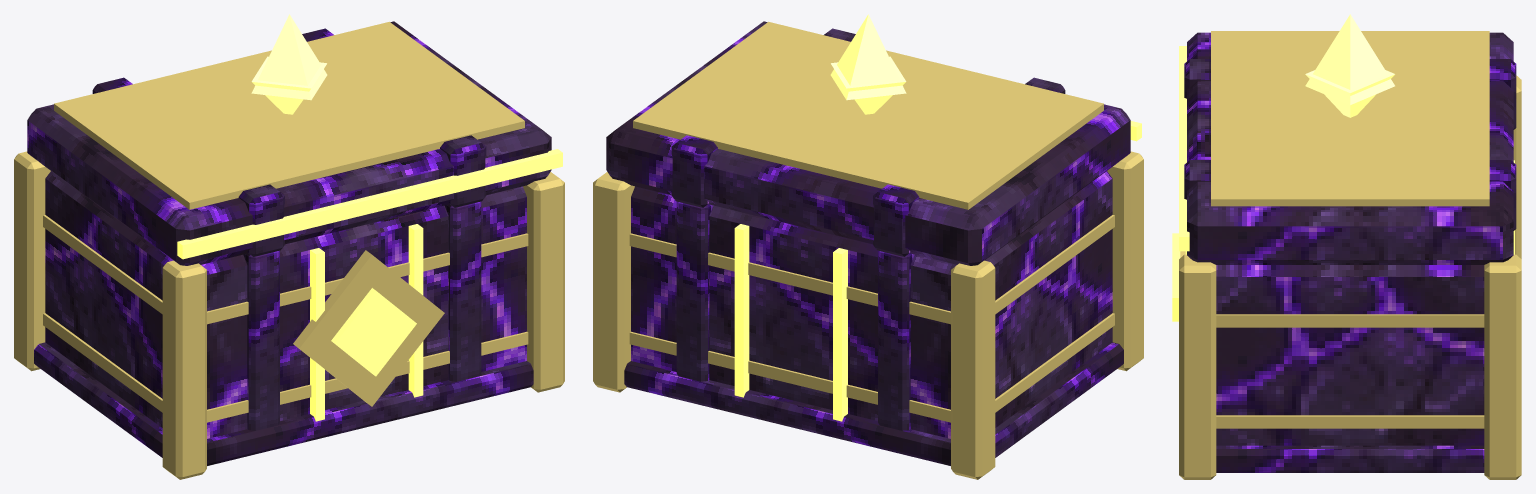
File: exp_crate_gold.glb
The picture shows the model from 3 angles, left to right: view 1: azimuth 30°, elevation 25°; view 2: azimuth 150°, elevation 25°; view 3: azimuth 270°, elevation 25°; orthographic projection. The views are drawn at different scales.
Parts seen in each view (by area): view 1: Crate, Lid, Crystal; view 2: Crate, Lid, Crystal; view 3: Crate, Lid, Crystal.
Boxes of the visible parts, left/top/right/bottom form: Crate: left=14, top=151, right=564, bottom=479; Lid: left=27, top=21, right=562, bottom=265; Crystal: left=251, top=14, right=327, bottom=114; Crate: left=593, top=151, right=1143, bottom=479; Lid: left=606, top=21, right=1141, bottom=265; Crystal: left=830, top=14, right=906, bottom=114; Crate: left=1172, top=75, right=1521, bottom=479; Lid: left=1179, top=31, right=1516, bottom=264; Crystal: left=1305, top=14, right=1394, bottom=117.
Bounding box in the file's own units: 1.74 × 1.54 × 1.31.
Materials: 5 (2 with a texture image).
